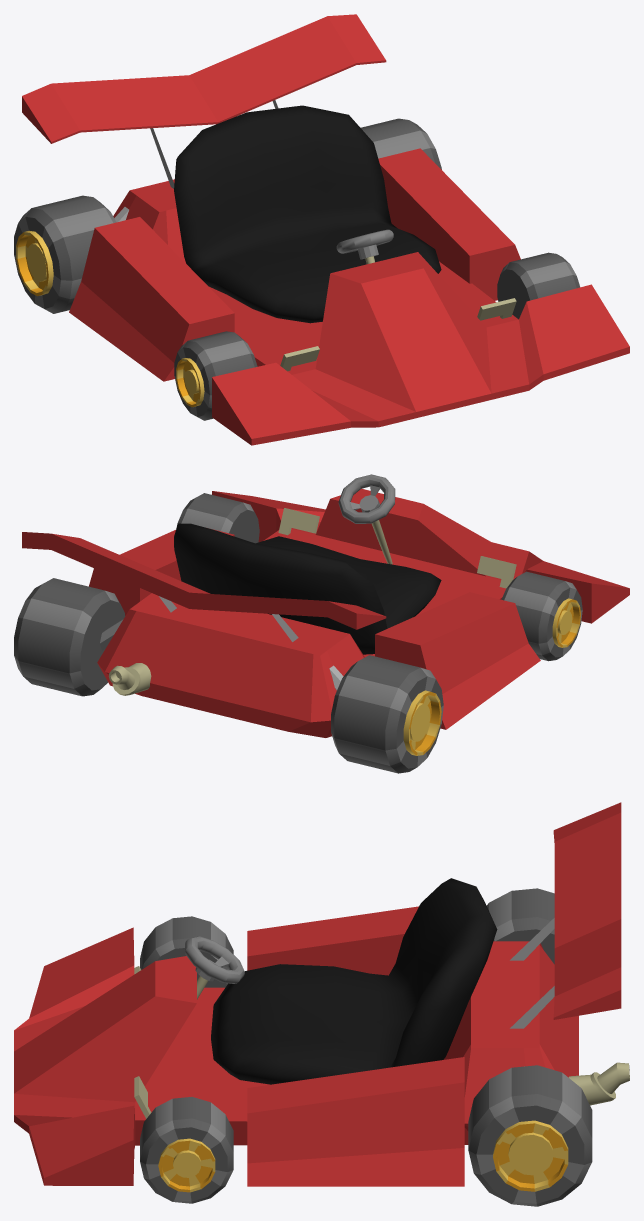
The model's file is Kart_001_ApplyModifiers.fbx.
3 views of the same model, one above another, from view 1: azimuth 30°, elevation 25°; view 2: azimuth 150°, elevation 25°; view 3: azimuth 270°, elevation 25° (orthographic). The views are drawn at different scales.
Parts seen in each view (by area): view 1: KartFrame, Seat, SideBumpers, Spoiler, RightBackWheel, RightFrontWheel, LeftFrontWheel, LeftBackWheel, Pedals, Torus.001; view 2: KartFrame, Seat, SideBumpers, RightBackWheel, LeftBackWheel, Spoiler, RightFrontWheel, LeftFrontWheel, Torus.001, Pedals, Exhaust, Cylinder; view 3: KartFrame, SideBumpers, Seat, LeftBackWheel, Spoiler, LeftFrontWheel, RightBackWheel, RightFrontWheel, Torus.001, Exhaust, SpolierSurport.
Part boxes in pixels (x1=…): KartFrame: x1=113, y1=179, x2=629, y2=445; Seat: x1=174, y1=105, x2=441, y2=323; SideBumpers: x1=69, y1=148, x2=520, y2=381; Spoiler: x1=22, y1=14, x2=386, y2=143; RightBackWheel: x1=14, y1=195, x2=116, y2=313; RightFrontWheel: x1=174, y1=331, x2=257, y2=420; LeftFrontWheel: x1=497, y1=252, x2=579, y2=319; LeftBackWheel: x1=360, y1=118, x2=441, y2=169; Pedals: x1=280, y1=298, x2=516, y2=371; Torus.001: x1=336, y1=229, x2=393, y2=259; KartFrame: x1=97, y1=488, x2=629, y2=737; Seat: x1=174, y1=523, x2=441, y2=654; SideBumpers: x1=89, y1=529, x2=540, y2=729; RightBackWheel: x1=331, y1=655, x2=443, y2=773; LeftBackWheel: x1=14, y1=578, x2=125, y2=696; Spoiler: x1=22, y1=532, x2=386, y2=629; RightFrontWheel: x1=501, y1=571, x2=582, y2=661; LeftFrontWheel: x1=176, y1=493, x2=259, y2=543; Torus.001: x1=338, y1=474, x2=395, y2=523; Pedals: x1=278, y1=508, x2=516, y2=588; Exhaust: x1=108, y1=663, x2=151, y2=695; Cylinder: x1=100, y1=619, x2=343, y2=690; KartFrame: x1=14, y1=927, x2=578, y2=1185; SideBumpers: x1=247, y1=906, x2=464, y2=1186; Seat: x1=211, y1=878, x2=497, y2=1084; LeftBackWheel: x1=468, y1=1065, x2=592, y2=1206; Spoiler: x1=553, y1=802, x2=621, y2=1019; LeftFrontWheel: x1=140, y1=1097, x2=233, y2=1203; RightBackWheel: x1=486, y1=888, x2=554, y2=964; RightFrontWheel: x1=140, y1=916, x2=233, y2=987; Torus.001: x1=185, y1=936, x2=244, y2=983; Exhaust: x1=568, y1=1062, x2=629, y2=1105; SpolierSurport: x1=510, y1=918, x2=554, y2=1028.
Size of the model in its own units: 268 by 122 by 317.
